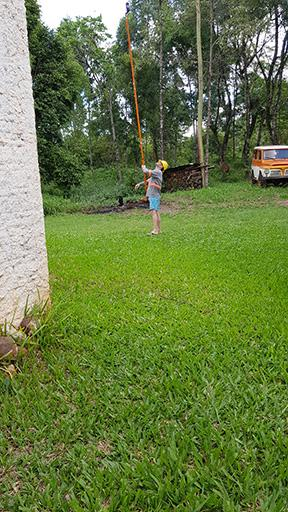Vara_Manobra: (125, 14, 147, 199)
